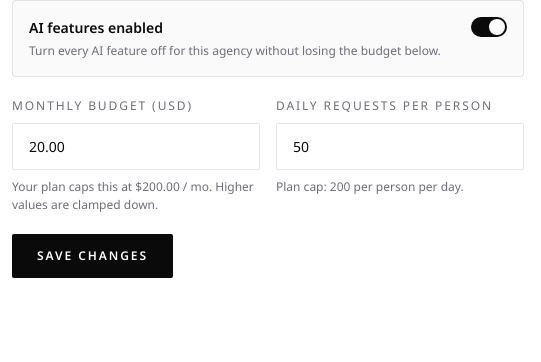
Test: AiSettingsPanel › shows the server error on failure
What coordinates should you click on to do the following:
click the button "Save changes"
I would click on:
 (92, 256)
Its box is x1=12 y1=234 x2=173 y2=278.
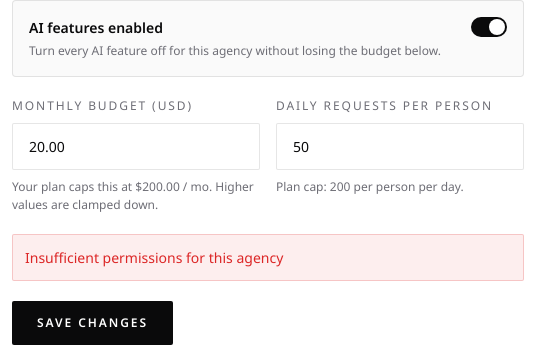
expect the text "Insufficient permissions for this agency" is shown: met, box x1=12 y1=234 x2=524 y2=281
